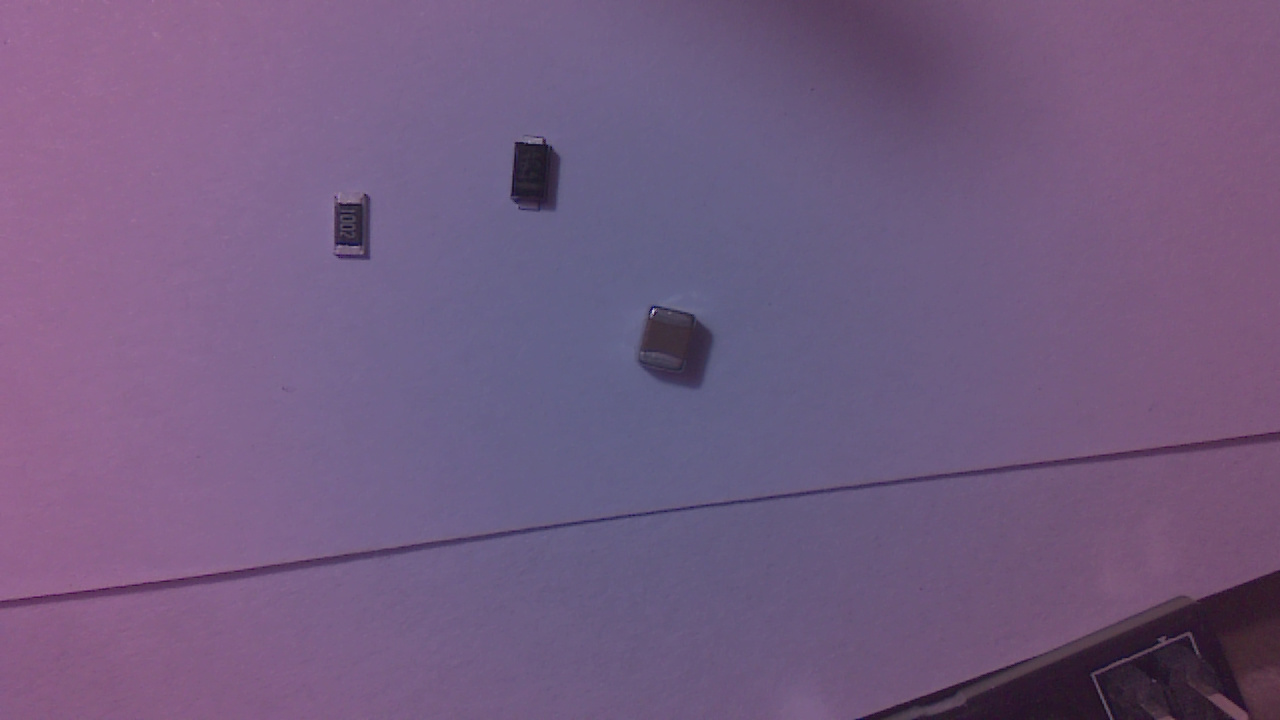Condensator: (641, 310, 704, 379)
Diode: (515, 141, 559, 220)
Resistor: (337, 195, 374, 262)
